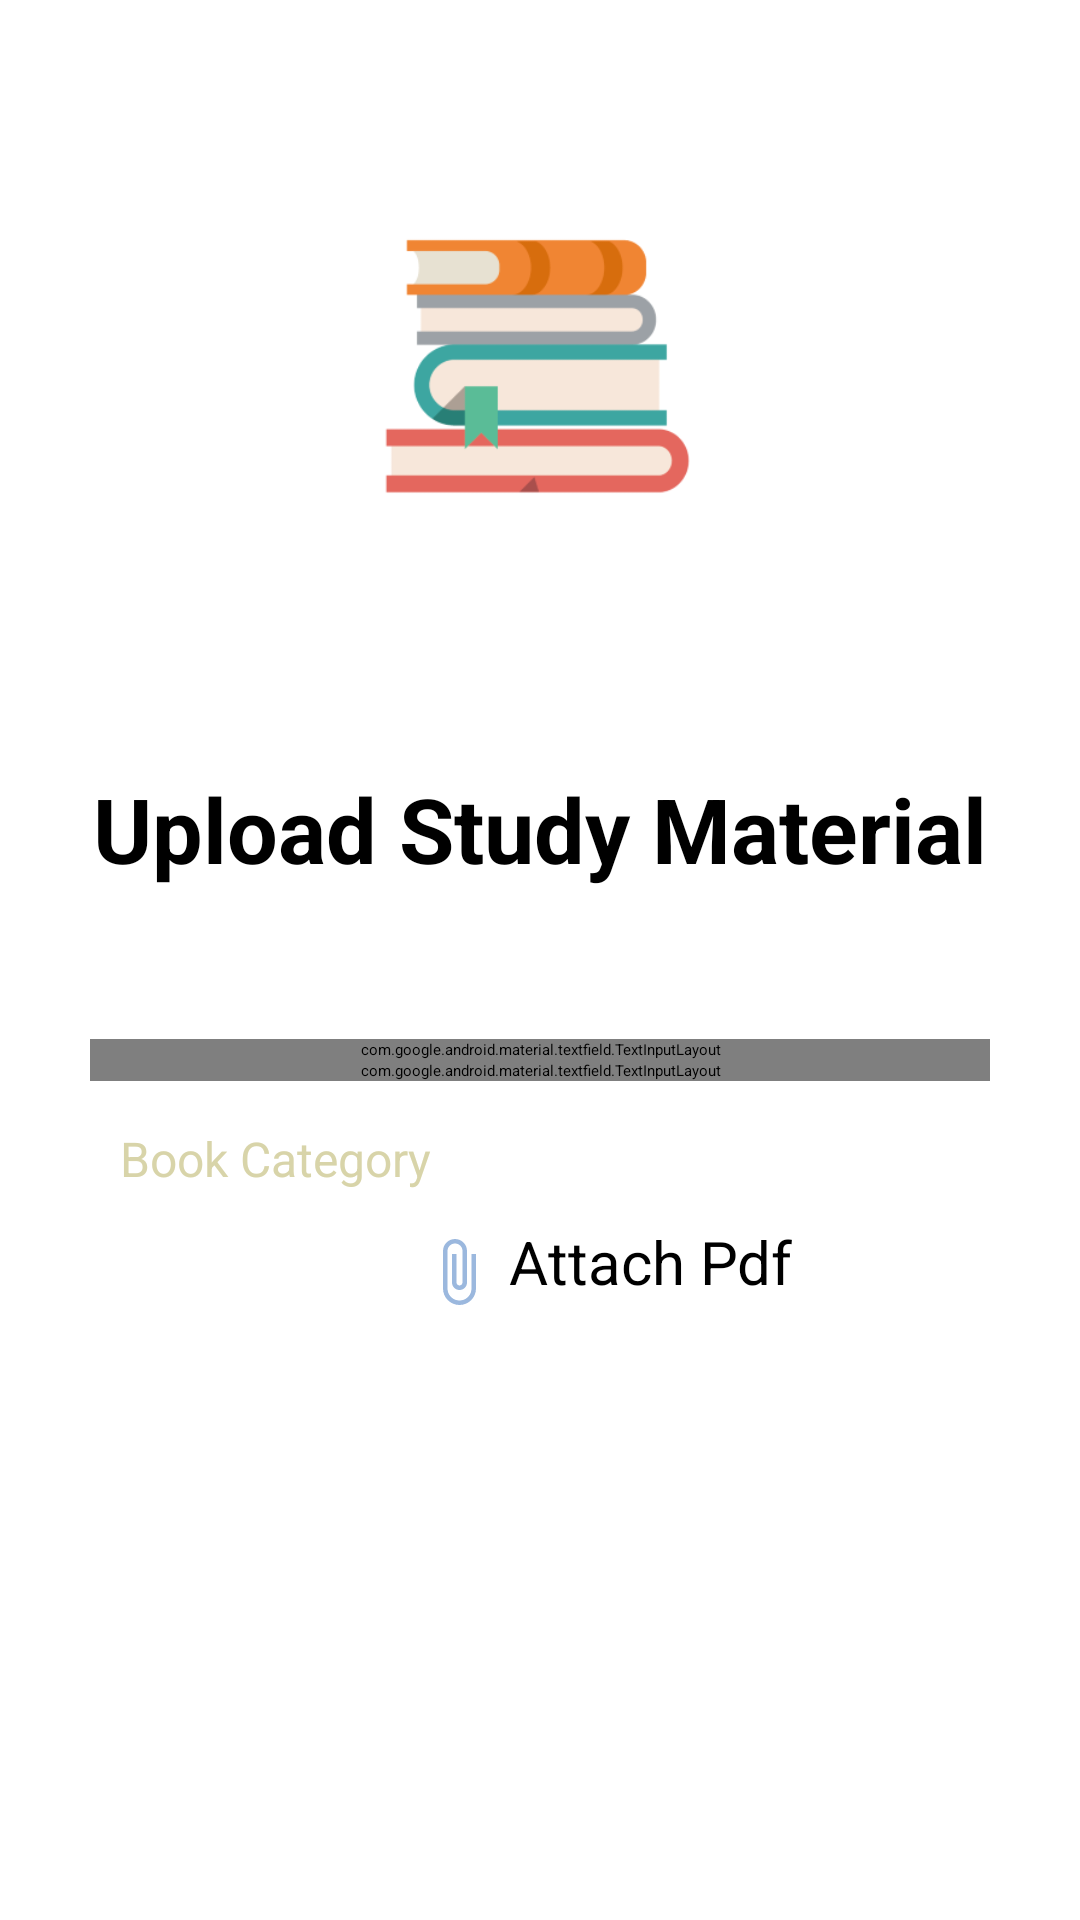

Screen size 1080px×1920px. Icon name, then its box in pixels as (x1, y1, x2, y2):
attach file: (443, 1239, 476, 1305)
